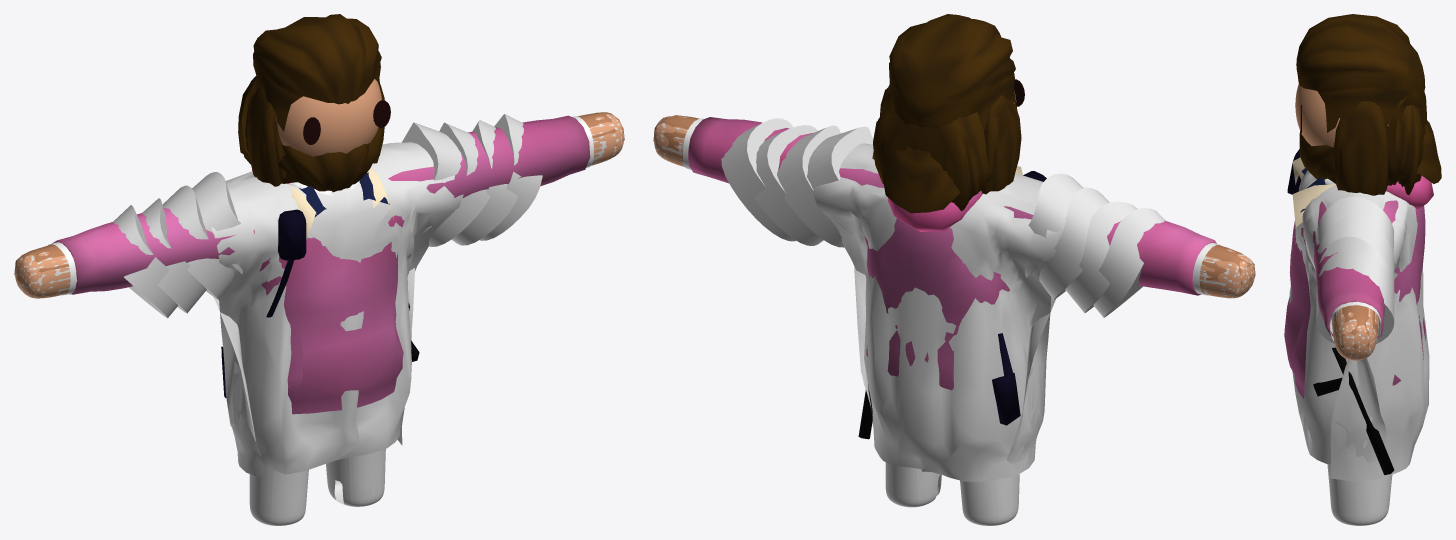
File: jesus.fbx
The picture shows the model from 3 angles, left to right: view 1: azimuth 30°, elevation 25°; view 2: azimuth 150°, elevation 25°; view 3: azimuth 270°, elevation 25°; orthographic projection. The views are drawn at different scales.
Parts seen in each view (by area): view 1: Plane, Coat_Hoodie, hair, Cylinder.001, Cylinder, legs, Shirt_cop, Shirt_TankTop, Shirt_Desert, Shirt_Vneck, Shirt_Tee, bod (+1 smaller); view 2: Plane, hair, Coat_Hoodie, Cylinder.001, Cylinder, legs, Shirt_cop, Shirt_TankTop, bod, Shirt_Mafia; view 3: hair, Plane, Coat_Hoodie, Cylinder, legs, Shirt_cop, Shirt_TankTop, Shirt_Vneck, bod, Shirt_Desert, Shirt_Mafia.
Part boxes in pixels (x1=…): Plane: x1=211, y1=142, x2=463, y2=477; Coat_Hoodie: x1=52, y1=115, x2=590, y2=414; hair: x1=238, y1=14, x2=390, y2=192; Cylinder.001: x1=113, y1=172, x2=242, y2=318; Cylinder: x1=402, y1=114, x2=542, y2=246; legs: x1=249, y1=448, x2=385, y2=525; Shirt_cop: x1=14, y1=112, x2=624, y2=397; Shirt_TankTop: x1=15, y1=114, x2=623, y2=298; Shirt_Desert: x1=15, y1=117, x2=623, y2=298; Shirt_Vneck: x1=15, y1=121, x2=621, y2=296; Shirt_Tee: x1=18, y1=114, x2=623, y2=297; bod: x1=15, y1=114, x2=623, y2=298; Plane: x1=813, y1=143, x2=1066, y2=481; hair: x1=872, y1=14, x2=1024, y2=213; Coat_Hoodie: x1=688, y1=117, x2=1216, y2=390; Cylinder.001: x1=1025, y1=173, x2=1165, y2=317; Cylinder: x1=721, y1=118, x2=873, y2=247; legs: x1=885, y1=462, x2=1019, y2=525; Shirt_cop: x1=653, y1=115, x2=1255, y2=439; Shirt_TankTop: x1=654, y1=116, x2=1254, y2=298; bod: x1=654, y1=116, x2=1254, y2=298; Shirt_Mafia: x1=683, y1=118, x2=1221, y2=295; hair: x1=1295, y1=14, x2=1441, y2=195; Plane: x1=1289, y1=170, x2=1429, y2=481; Coat_Hoodie: x1=1284, y1=176, x2=1433, y2=398; Cylinder: x1=1316, y1=196, x2=1394, y2=343; legs: x1=1327, y1=464, x2=1392, y2=525; Shirt_cop: x1=1287, y1=149, x2=1394, y2=474; Shirt_TankTop: x1=1332, y1=308, x2=1379, y2=360; Shirt_Vneck: x1=1292, y1=157, x2=1380, y2=357; bod: x1=1331, y1=308, x2=1379, y2=360; Shirt_Desert: x1=1332, y1=311, x2=1375, y2=360; Shirt_Mafia: x1=1311, y1=175, x2=1381, y2=342.
Bounding box in the file's own units: 183 × 143 × 42.57.
